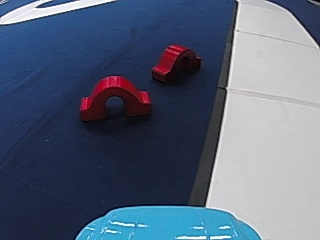bridge: (75, 70, 153, 121), (149, 41, 203, 84)
